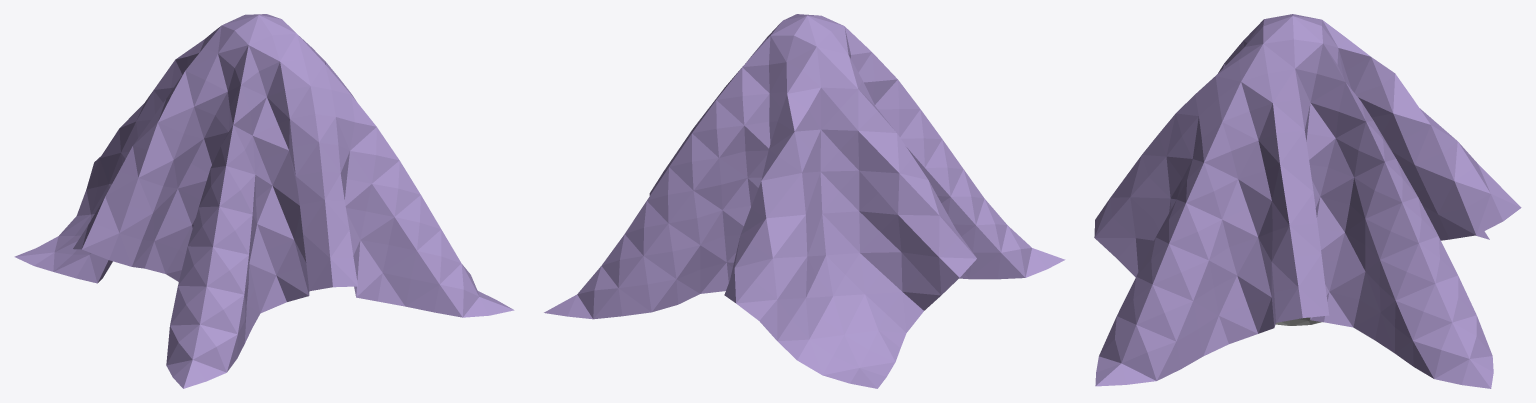
File: level_0.glb
3 renders of one model, left to right at view 1: azimuth 30°, elevation 25°; view 2: azimuth 150°, elevation 25°; view 3: azimuth 270°, elevation 25°, orthographic. The views are drawn at different scales.
Visible parts, largest first — view 1: world; view 2: world; view 3: world.
Boxes of the visible parts, left/top/right/bottom form: world: left=14, top=14, right=514, bottom=388; world: left=544, top=14, right=1065, bottom=388; world: left=1094, top=14, right=1521, bottom=388.
Size of the model in its own units: 0.3986 by 0.2988 by 0.4052.
